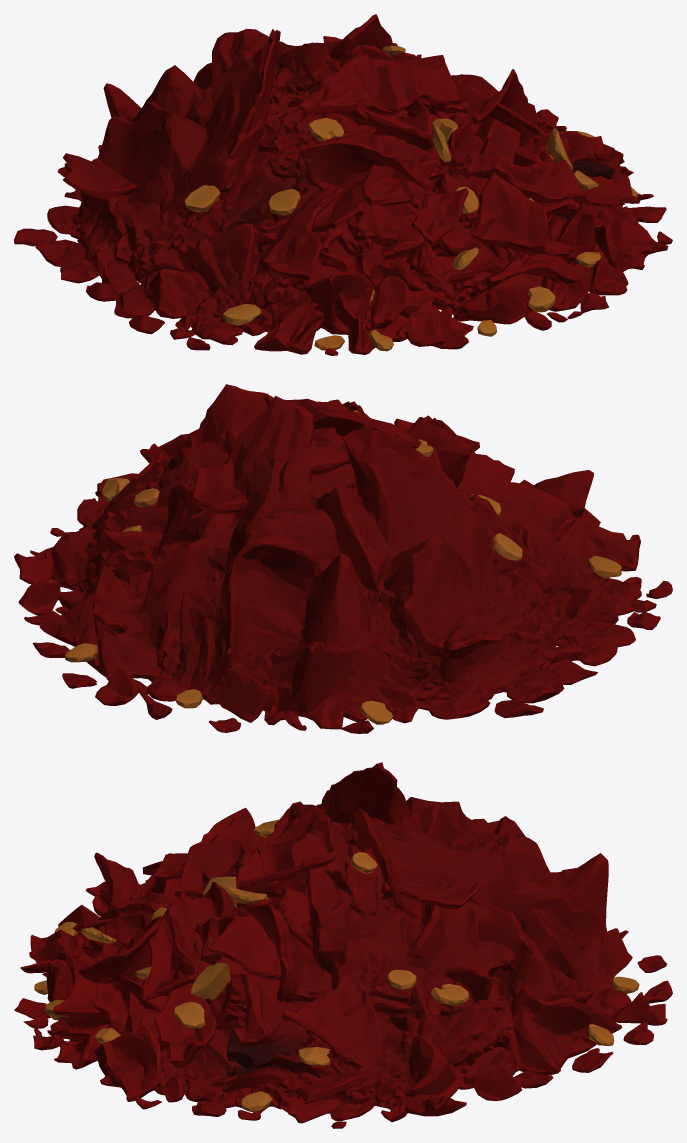
The model's file is lod_basic_pbr.fbx.
3 renders of one model, top to bottom at view 1: azimuth 30°, elevation 25°; view 2: azimuth 150°, elevation 25°; view 3: azimuth 270°, elevation 25°, orthographic. The views are drawn at different scales.
Visible parts, largest first — view 1: model_LOD0; view 2: model_LOD0; view 3: model_LOD0.
Boxes of the visible parts, left/top/right/bottom form: model_LOD0: left=14, top=14, right=672, bottom=355; model_LOD0: left=14, top=384, right=672, bottom=733; model_LOD0: left=14, top=762, right=672, bottom=1128.
Size of what is drawn, in the model's own units: 186 by 65.32 by 189.
Materials: 1 (1 with a texture image).
